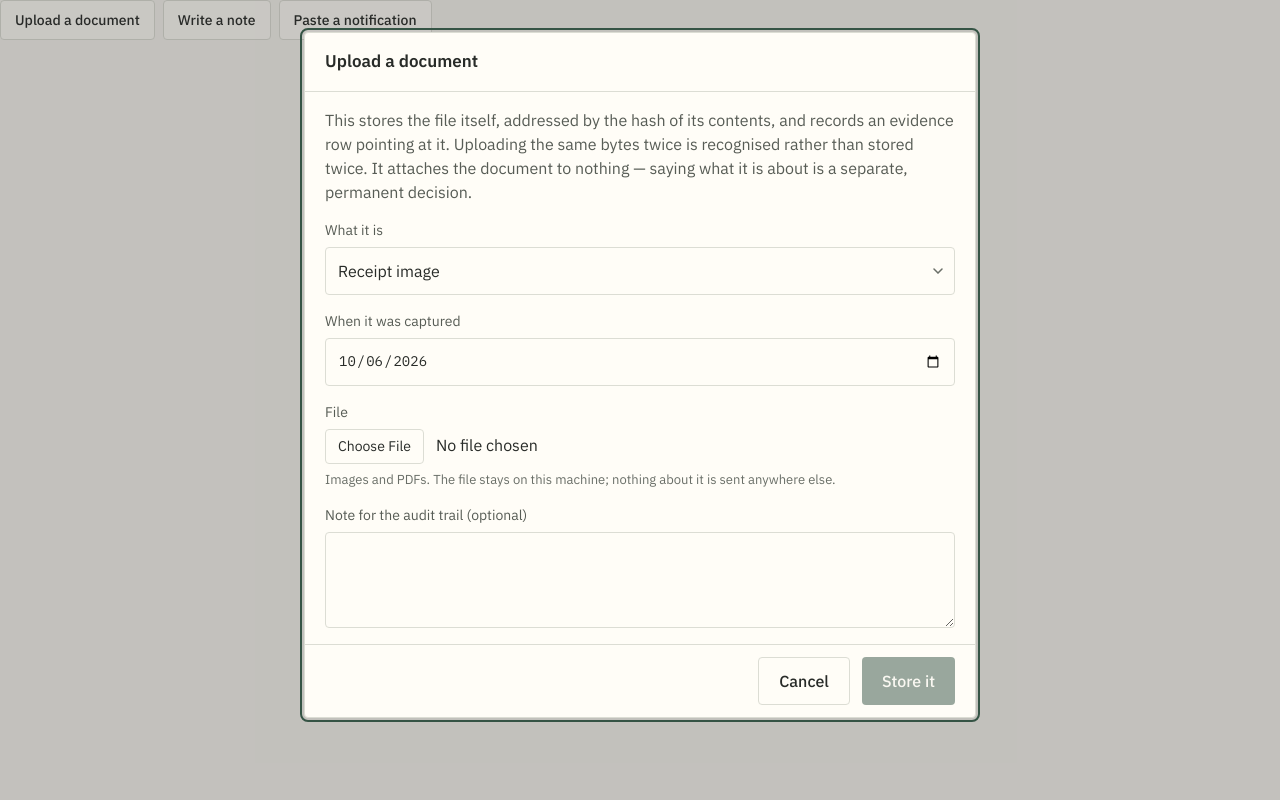
Test case: bringing evidence in by hand › opens the form a link from Add records asked for, and stays shut once dismissed
Expected: the heading "Upload a document" is shown, [325,50,478,72]
Click the button "Cancel" at (804, 681), box [758,657,850,705]
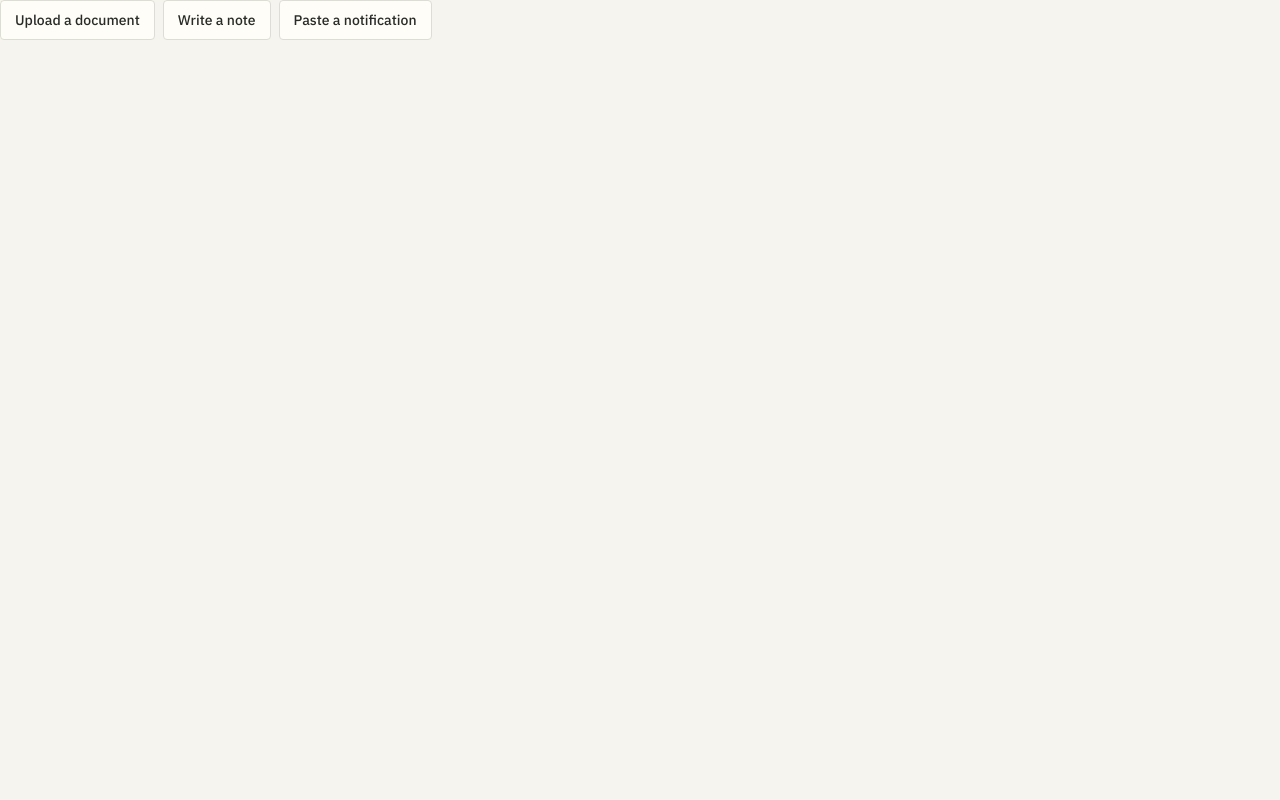
Result: the dialog is gone
